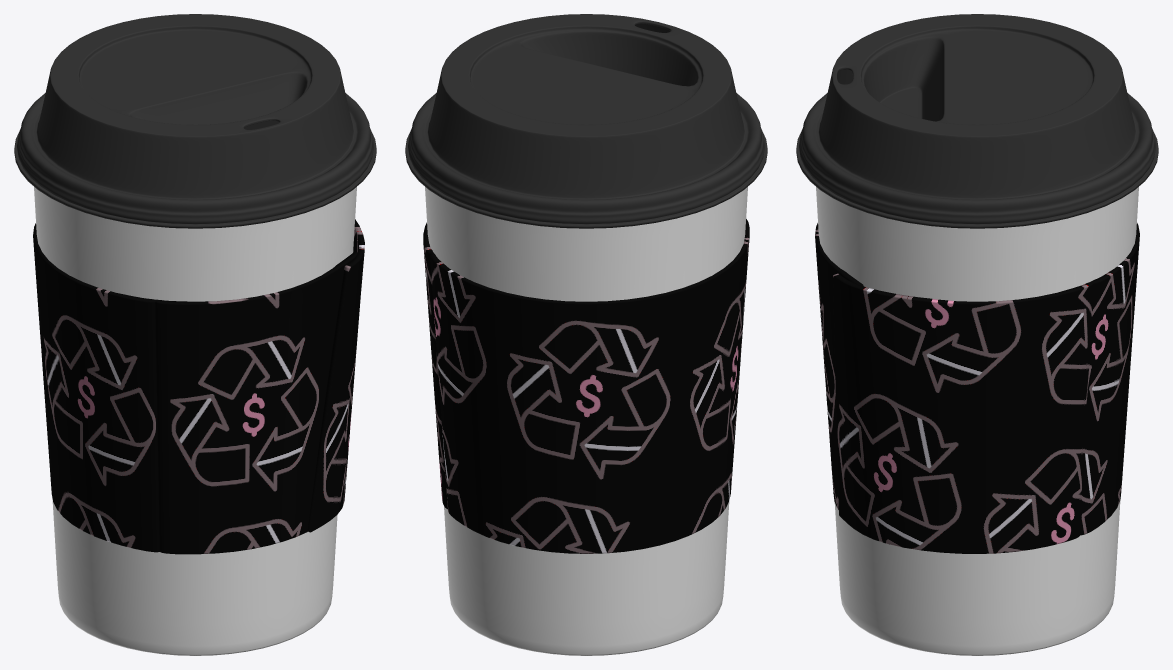
File: res_models_cafe.glb
3 renders of one model, left to right at view 1: azimuth 30°, elevation 25°; view 2: azimuth 150°, elevation 25°; view 3: azimuth 270°, elevation 25°, orthographic.
Parts seen in each view (by area): view 1: sleeve, lid, cup; view 2: sleeve, lid, cup; view 3: sleeve, lid, cup.
Boxes of the visible parts, left/top/right/bottom form: sleeve: left=33, top=219, right=364, bottom=554; lid: left=14, top=14, right=376, bottom=228; cup: left=34, top=187, right=356, bottom=655; sleeve: left=423, top=219, right=749, bottom=553; lid: left=405, top=14, right=767, bottom=228; cup: left=425, top=187, right=747, bottom=655; sleeve: left=815, top=223, right=1139, bottom=553; lid: left=796, top=14, right=1158, bottom=228; cup: left=816, top=187, right=1138, bottom=655.
Bounding box in the file's own units: 2.53 × 4.03 × 2.53.
Materials: 3 (1 with a texture image).
